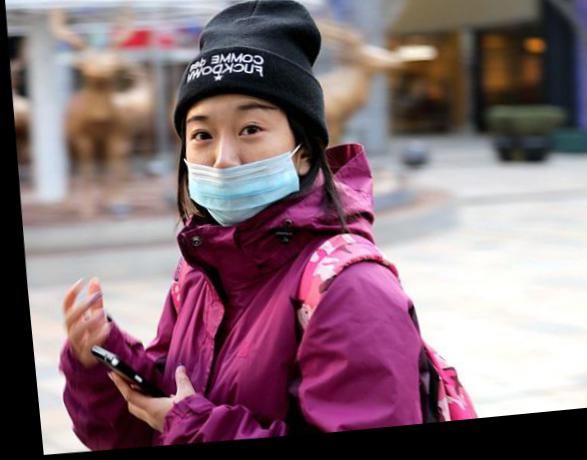WRONG: (168, 97, 300, 230)
